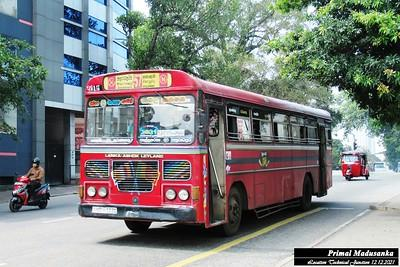bus: (79, 64, 336, 237)
motorbike: (6, 176, 53, 213)
